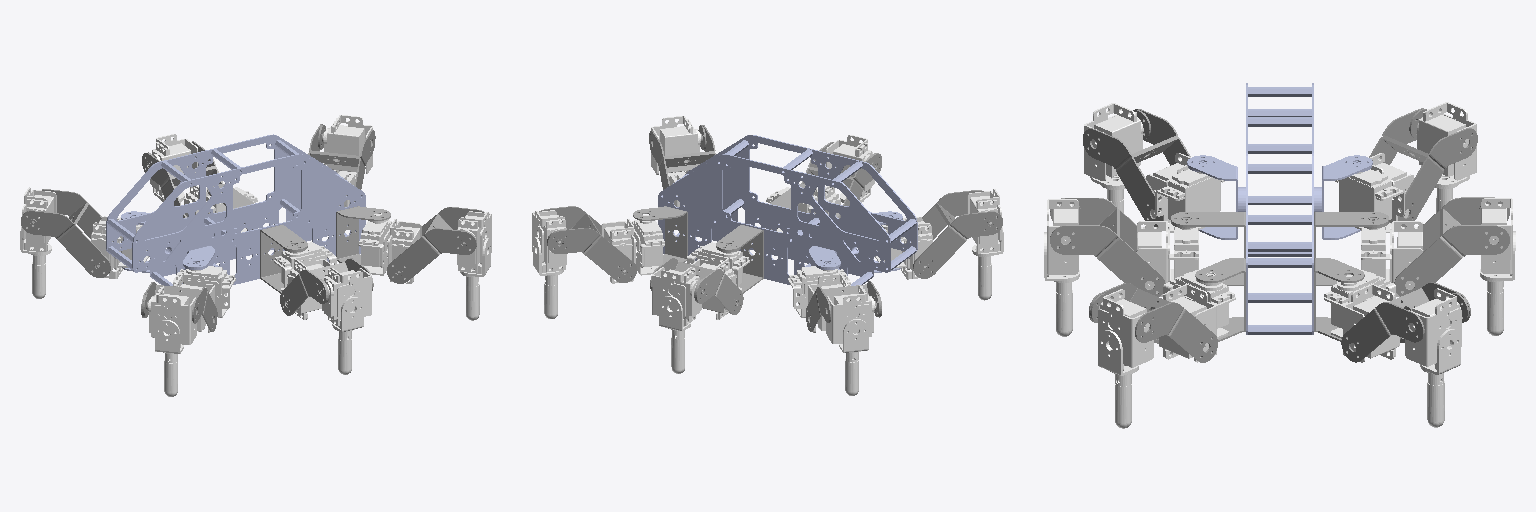
--- Facts derived from the render (not from the file) ---
The picture shows the robot from 3 angles, left to right: view 1: azimuth 30°, elevation 25°; view 2: azimuth 150°, elevation 25°; view 3: azimuth 270°, elevation 25°; orthographic projection.
Robot: sample_hexapod_robot — 25 links, 24 joints (18 continuous, 6 fixed); root link base_link; default pose: every joint at zero.
Visible links, largest first — view 1: base_link, BottomLeftLink3, MiddleRightLink4, RightFrontLink3, BottomRightLink4, RightFrontLink2, RightFrontLink4, BottomLeftLink4, MiddleRightLink3, LeftFrontLink4, MiddleRightLink2, BottomRightLink2 (+8 smaller); view 2: base_link, BottomRightLink3, MiddleLeftLink4, LeftFrontLink3, BottomLeftLink4, LeftFrontLInk2, LeftFrontLink4, BottomRightLink4, MiddleLeftLink3, RightFrontLink4, MiddleLeftLink1, MiddleLeftLink2 (+8 smaller); view 3: base_link, MiddleLeftLink3, MiddleRightLink3, LeftFrontLink4, RightFrontLink4, BottomLeftLink3, BottomRightLink3, RightFrontLink3, LeftFrontLink3, BottomLeftLink2, BottomRightLink2, RightFrontLink2 (+13 smaller).
Link boxes in pixels (x1,y1,x2,y2): base_link: [106, 134, 365, 285]; BottomLeftLink3: [21, 189, 110, 277]; MiddleRightLink4: [322, 268, 371, 374]; RightFrontLink3: [387, 207, 484, 283]; BottomRightLink4: [148, 286, 196, 396]; RightFrontLink2: [358, 213, 421, 283]; RightFrontLink4: [457, 211, 491, 320]; BottomLeftLink4: [20, 187, 56, 298]; MiddleRightLink3: [280, 258, 373, 315]; LeftFrontLink4: [323, 115, 372, 181]; MiddleRightLink2: [274, 242, 336, 319]; BottomRightLink2: [173, 266, 235, 332]; base_link: [658, 135, 917, 285]; BottomRightLink3: [913, 190, 1002, 278]; MiddleLeftLink4: [652, 267, 702, 373]; LeftFrontLink3: [539, 206, 636, 282]; BottomLeftLink4: [826, 285, 875, 395]; LeftFrontLInk2: [601, 215, 664, 283]; LeftFrontLink4: [532, 210, 566, 318]; BottomRightLink4: [967, 189, 1003, 300]; MiddleLeftLink3: [650, 258, 743, 314]; RightFrontLink4: [651, 116, 700, 180]; MiddleLeftLink1: [716, 225, 763, 293]; MiddleLeftLink2: [687, 242, 749, 319]; base_link: [1246, 83, 1313, 334]; MiddleLeftLink3: [1394, 197, 1509, 296]; MiddleRightLink3: [1050, 198, 1165, 296]; LeftFrontLink4: [1405, 288, 1461, 427]; RightFrontLink4: [1098, 289, 1153, 428]; BottomLeftLink3: [1369, 108, 1477, 226]; BottomRightLink3: [1083, 109, 1190, 226]; RightFrontLink3: [1089, 283, 1217, 362]; LeftFrontLink3: [1341, 282, 1470, 362]; BottomLeftLink2: [1335, 153, 1413, 229]; BottomRightLink2: [1146, 153, 1224, 229]; RightFrontLink2: [1158, 270, 1235, 362].
Bounding box of the posed robot: 0.3908 × 0.3641 × 0.1696 m (x, y, z).
25 mesh visuals loaded from 25 distinct referenced files (25 binary STL).

The robot description file, URDF, robot "sample_hexapod_robot":
<?xml version="1.0" encoding="utf-8"?>
<!-- This URDF was automatically created by SolidWorks to URDF Exporter! Originally created by Stephen Brawner ([email redacted])
     Commit Version: 1.5.1-0-g916b5db  Build Version: 1.5.7152.31018
     For more information, please see http://wiki.ros.org/sw_urdf_exporter -->
<robot
  name="sample_hexapod_robot">
  <link
    name="base_link">
    <inertial>
      <origin
        xyz="-0.0201724295551156 -0.0157441046135445 -0.00674889408254364"
        rpy="0 0 0" />
      <mass
        value="0" />
      <inertia
        ixx="0"
        ixy="0"
        ixz="0"
        iyy="0"
        iyz="0"
        izz="0" />
      <!-- <mass
        value="0.0716155283270815" />
      <inertia
        ixx="6.13329692510778E-05"
        ixy="1.59034863834077E-05"
        ixz="1.20390377320831E-22"
        iyy="0.00027215207463891"
        iyz="1.62249266634428E-22"
        izz="0.00032629128217773" /> -->
    </inertial>
    <visual>
      <origin
        xyz="0 0 0"
        rpy="0 0 0" />
      <geometry>
        <mesh
          filename="package://sample_hexapod_robot/meshes/base_link.STL" />
      </geometry>
      <material
        name="">
        <color
          rgba="0.792156862745098 0.819607843137255 0.933333333333333 1" />
      </material>
    </visual>
    <collision>
      <origin
        xyz="0 0 0"
        rpy="0 0 0" />
      <geometry>
        <mesh
          filename="package://sample_hexapod_robot/meshes/base_link.STL" />
      </geometry>
    </collision>
  </link>
  <link
    name="RightFrontLink1">
    <inertial>
      <origin
        xyz="-2.77555756156289E-17 0.0117444424090268 -0.00583560923500802"
        rpy="0 0 0" />
      <mass
        value="0.00481299409312765" />
      <inertia
        ixx="1.18177478674688E-06"
        ixy="-1.42650712427758E-21"
        ixz="-2.59695162761179E-24"
        iyy="2.88509010884338E-06"
        iyz="3.65304851631169E-07"
        izz="2.98596434344079E-06" />
    </inertial>
    <visual>
      <origin
        xyz="0 0 0"
        rpy="0 0 0" />
      <geometry>
        <mesh
          filename="package://sample_hexapod_robot/meshes/RightFrontLink1.STL" />
      </geometry>
      <material
        name="">
        <color
          rgba="0.752941176470588 0.752941176470588 0.752941176470588 1" />
      </material>
    </visual>
    <collision>
      <origin
        xyz="0 0 0"
        rpy="0 0 0" />
      <geometry>
        <mesh
          filename="package://sample_hexapod_robot/meshes/RightFrontLink1.STL" />
      </geometry>
    </collision>
  </link>
  <joint
    name="RightFrontJoint1"
    type="fixed">
    <origin
      xyz="0.0797966933644301 -0.0194131059174563 -0.0399893477490188"
      rpy="3.14159265358979 1.5707963267949 0" />
    <parent
      link="base_link" />
    <child
      link="RightFrontLink1" />
    <axis
      xyz="0 0 0" />
  </joint>
  <link
    name="RightFrontLink2">
    <inertial>
      <origin
        xyz="0.00452867992289666 0.0139710440348122 -0.00560326484439639"
        rpy="0 0 0" />
      <mass
        value="0.0532163858371582" />
      <inertia
        ixx="8.59655539356453E-06"
        ixy="1.38445250775542E-07"
        ixz="3.37486665413632E-08"
        iyy="1.32545838824263E-05"
        iyz="-1.38471551019802E-07"
        izz="8.62839306366304E-06" />
    </inertial>
    <visual>
      <origin
        xyz="0 0 0"
        rpy="0 0 0" />
      <geometry>
        <mesh
          filename="package://sample_hexapod_robot/meshes/RightFrontLink2.STL" />
      </geometry>
      <material
        name="">
        <color
          rgba="1 1 1 1" />
      </material>
    </visual>
    <collision>
      <origin
        xyz="0 0 0"
        rpy="0 0 0" />
      <geometry>
        <mesh
          filename="package://sample_hexapod_robot/meshes/RightFrontLink2.STL" />
      </geometry>
    </collision>
  </link>
  <joint
    name="RightFrontJoint2"
    type="continuous">
    <origin
      xyz="0 0.0270001999999999 -0.0186562999999996"
      rpy="-1.5707963267949 -0.786246680506596 1.5707963267949" />
    <parent
      link="RightFrontLink1" />
    <child
      link="RightFrontLink2" />
    <axis
      xyz="0 0 1" />
  </joint>
  <link
    name="RightFrontLink3">
    <inertial>
      <origin
        xyz="0.0404128398424304 0.00597660677483936 0.00369375749998602"
        rpy="0 0 0" />
      <mass
        value="0.0123870986027426" />
      <inertia
        ixx="6.14529175645602E-06"
        ixy="1.23648254560111E-13"
        ixz="-3.65304851631165E-07"
        iyy="3.44355530037888E-06"
        iyz="-1.23648258901154E-13"
        izz="7.79938480929225E-06" />
    </inertial>
    <visual>
      <origin
        xyz="0 0 0"
        rpy="0 0 0" />
      <geometry>
        <mesh
          filename="package://sample_hexapod_robot/meshes/RightFrontLink3.STL" />
      </geometry>
      <material
        name="">
        <color
          rgba="0.698039215686274 0.698039215686274 0.698039215686274 1" />
      </material>
    </visual>
    <collision>
      <origin
        xyz="0 0 0"
        rpy="0 0 0" />
      <geometry>
        <mesh
          filename="package://sample_hexapod_robot/meshes/RightFrontLink3.STL" />
      </geometry>
    </collision>
  </link>
  <joint
    name="RightFrontJoint3"
    type="continuous">
    <origin
      xyz="0 0.0284480000000001 -0.019127099952002"
      rpy="3.14159265358979 -0.785398163397442 1.5707963267949" />
    <parent
      link="RightFrontLink2" />
    <child
      link="RightFrontLink3" />
    <axis
      xyz="0 1 0" />
  </joint>
  <link
    name="RightFrontLink4">
    <inertial>
      <origin
        xyz="0.017502224050596 0.00213695685860105 4.7020139145551E-05"
        rpy="0 0 0" />
      <mass
        value="0.0328903409487069" />
      <inertia
        ixx="3.98709519783942E-06"
        ixy="1.2256306723942E-07"
        ixz="1.68744277076862E-08"
        iyy="7.43377213845983E-06"
        iyz="-1.38372953220074E-07"
        izz="5.85869865539314E-06" />
    </inertial>
    <visual>
      <origin
        xyz="0 0 0"
        rpy="0 0 0" />
      <geometry>
        <mesh
          filename="package://sample_hexapod_robot/meshes/RightFrontLink4.STL" />
      </geometry>
      <material
        name="">
        <color
          rgba="1 1 1 1" />
      </material>
    </visual>
    <collision>
      <origin
        xyz="0 0 0"
        rpy="0 0 0" />
      <geometry>
        <mesh
          filename="package://sample_hexapod_robot/meshes/RightFrontLink4.STL" />
      </geometry>
    </collision>
  </link>
  <joint
    name="RightFrontJoint4"
    type="continuous">
    <origin
      xyz="0.0730630999999997 0 0.0186563000000001"
      rpy="1.5707963267949 -0.785398163397455 3.14159265358979" />
    <parent
      link="RightFrontLink3" />
    <child
      link="RightFrontLink4" />
    <axis
      xyz="0 0 1" />
  </joint>
  <link
    name="LeftFrontLink1">
    <inertial>
      <origin
        xyz="-6.93889390390723E-18 0.0117444424090268 -0.00583560923500803"
        rpy="0 0 0" />
      <mass
        value="0.00481299409312765" />
      <inertia
        ixx="1.18177478674687E-06"
        ixy="3.83641268413852E-22"
        ixz="7.43348252236493E-22"
        iyy="2.88509010884338E-06"
        iyz="3.65304851631169E-07"
        izz="2.98596434344079E-06" />
    </inertial>
    <visual>
      <origin
        xyz="0 0 0"
        rpy="0 0 0" />
      <geometry>
        <mesh
          filename="package://sample_hexapod_robot/meshes/LeftFrontLink1.STL" />
      </geometry>
      <material
        name="">
        <color
          rgba="0.752941176470588 0.752941176470588 0.752941176470588 1" />
      </material>
    </visual>
    <collision>
      <origin
        xyz="0 0 0"
        rpy="0 0 0" />
      <geometry>
        <mesh
          filename="package://sample_hexapod_robot/meshes/LeftFrontLink1.STL" />
      </geometry>
    </collision>
  </link>
  <joint
    name="LeftFrontJoint1"
    type="fixed">
    <origin
      xyz="0.0797966933644301 0.0329108940825437 -0.0399893477490188"
      rpy="0 -1.5707963267949 0" />
    <parent
      link="base_link" />
    <child
      link="LeftFrontLink1" />
    <axis
      xyz="0 0 0" />
  </joint>
  <link
    name="LeftFrontLInk2">
    <inertial>
      <origin
        xyz="0.0042927116829299 -0.0142494000000003 -0.00590628826906783"
        rpy="0 0 0" />
      <mass
        value="0.0522696869799878" />
      <inertia
        ixx="8.56368160000811E-06"
        ixy="-1.38274058125036E-07"
        ixz="3.5847434372441E-08"
        iyy="1.32217101778383E-05"
        iyz="1.38274058125032E-07"
        izz="8.56368160000811E-06" />
    </inertial>
    <visual>
      <origin
        xyz="0 0 0"
        rpy="0 0 0" />
      <geometry>
        <mesh
          filename="package://sample_hexapod_robot/meshes/LeftFrontLInk2.STL" />
      </geometry>
      <material
        name="">
        <color
          rgba="1 1 1 1" />
      </material>
    </visual>
    <collision>
      <origin
        xyz="0 0 0"
        rpy="0 0 0" />
      <geometry>
        <mesh
          filename="package://sample_hexapod_robot/meshes/LeftFrontLInk2.STL" />
      </geometry>
    </collision>
  </link>
  <joint
    name="LeftFrontJoint2"
    type="continuous">
    <origin
      xyz="0 0.0269911968874116 -0.0186293668612354"
      rpy="1.5707963267949 -0.786246680508058 1.5707963267949" />
    <parent
      link="LeftFrontLink1" />
    <child
      link="LeftFrontLInk2" />
    <axis
      xyz="0 0 1" />
  </joint>
  <link
    name="LeftFrontLink3">
    <inertial>
      <origin
        xyz="-0.00369426510069479 0.00543050677483787 -0.0404133474431356"
        rpy="0 0 0" />
      <mass
        value="0.0123870986027426" />
      <inertia
        ixx="7.79943723513966E-06"
        ixy="2.47296509967254E-13"
        ixz="-3.65304851631169E-07"
        iyy="3.44355530037888E-06"
        iyz="-1.6940658945086E-21"
        izz="6.14523933060859E-06" />
    </inertial>
    <visual>
      <origin
        xyz="0 0 0"
        rpy="0 0 0" />
      <geometry>
        <mesh
          filename="package://sample_hexapod_robot/meshes/LeftFrontLink3.STL" />
      </geometry>
      <material
        name="">
        <color
          rgba="0.698039215686274 0.698039215686274 0.698039215686274 1" />
      </material>
    </visual>
    <collision>
      <origin
        xyz="0 0 0"
        rpy="0 0 0" />
      <geometry>
        <mesh
          filename="package://sample_hexapod_robot/meshes/LeftFrontLink3.STL" />
      </geometry>
    </collision>
  </link>
  <joint
    name="LeftFrontJoint3"
    type="continuous">
    <origin
      xyz="0 -0.0284734 -0.0185936999519958"
      rpy="3.14159265358979 -0.785398163397443 1.5707963267949" />
    <parent
      link="LeftFrontLInk2" />
    <child
      link="LeftFrontLink3" />
    <axis
      xyz="0 1 0" />
  </joint>
  <link
    name="LeftFrontLink4">
    <inertial>
      <origin
        xyz="0.0173312004836655 -0.00213695685902054 -0.00049907986087272"
        rpy="0 0 0" />
      <mass
        value="0.0328903409487069" />
      <inertia
        ixx="3.9870951978397E-06"
        ixy="-1.22365823567027E-07"
        ixz="1.79235818286107E-08"
        iyy="7.4337721384596E-06"
        iyz="1.38372942876725E-07"
        izz="5.85869865539311E-06" />
    </inertial>
    <visual>
      <origin
        xyz="0 0 0"
        rpy="0 0 0" />
      <geometry>
        <mesh
          filename="package://sample_hexapod_robot/meshes/LeftFrontLink4.STL" />
      </geometry>
      <material
        name="">
        <color
          rgba="1 1 1 1" />
      </material>
    </visual>
    <collision>
      <origin
        xyz="0 0 0"
        rpy="0 0 0" />
      <geometry>
        <mesh
          filename="package://sample_hexapod_robot/meshes/LeftFrontLink4.STL" />
      </geometry>
    </collision>
  </link>
  <joint
    name="LeftFrontJoint4"
    type="continuous">
    <origin
      xyz="-0.0186563000000022 0 -0.073063099999997"
      rpy="1.5707963267959 -0.785398163398452 3.14159265358838" />
    <parent
      link="LeftFrontLink3" />
    <child
      link="LeftFrontLink4" />
    <axis
      xyz="0 0 1" />
  </joint>
  <link
    name="MiddleRightLink1">
    <inertial>
      <origin
        xyz="-0.00338972796446857 0.0229454122748954 9.48742289353863E-07"
        rpy="0 0 0" />
      <mass
        value="0.00662740565244451" />
      <inertia
        ixx="2.19706904997707E-06"
        ixy="2.1649945772828E-21"
        ixz="1.23648259153443E-13"
        iyy="3.22730168561668E-06"
        iyz="4.67113118283495E-22"
        izz="4.78057292970292E-06" />
    </inertial>
    <visual>
      <origin
        xyz="0 0 0"
        rpy="0 0 0" />
      <geometry>
        <mesh
          filename="package://sample_hexapod_robot/meshes/MiddleRightLink1.STL" />
      </geometry>
      <material
        name="">
        <color
          rgba="0.752941176470588 0.752941176470588 0.752941176470588 1" />
      </material>
    </visual>
    <collision>
      <origin
        xyz="0 0 0"
        rpy="0 0 0" />
      <geometry>
        <mesh
          filename="package://sample_hexapod_robot/meshes/MiddleRightLink1.STL" />
      </geometry>
    </collision>
  </link>
  <joint
    name="MiddleRightJoint1"
    type="fixed">
    <origin
      xyz="-0.0045313 -0.019413 -0.039989"
      rpy="3.1416 1.5708 0" />
    <parent
      link="base_link" />
    <child
      link="MiddleRightLink1" />
    <axis
      xyz="0 0 0" />
  </joint>
  <link
    name="MiddleRightLink2">
    <inertial>
      <origin
        xyz="0.00600434318283062 -0.0142239999999997 -0.00612161228746982"
        rpy="0 0 0" />
      <mass
        value="0.0522696869799877" />
      <inertia
        ixx="8.5636816000081E-06"
        ixy="1.384714636615E-07"
        ixz="1.04942766887823E-09"
        iyy="1.32217101778383E-05"
        iyz="1.38471463661503E-07"
        izz="8.5636816000081E-06" />
    </inertial>
    <visual>
      <origin
        xyz="0 0 0"
        rpy="0 0 0" />
      <geometry>
        <mesh
          filename="package://sample_hexapod_robot/meshes/MiddleRightLink2.STL" />
      </geometry>
      <material
        name="">
        <color
          rgba="1 1 1 1" />
      </material>
    </visual>
    <collision>
      <origin
        xyz="0 0 0"
        rpy="0 0 0" />
      <geometry>
        <mesh
          filename="package://sample_hexapod_robot/meshes/MiddleRightLink2.STL" />
      </geometry>
    </collision>
  </link>
  <joint
    name="MiddleRightJoint2"
    type="continuous">
    <origin
      xyz="0 0.046063 0"
      rpy="3.1416 1.5708 0" />
    <parent
      link="MiddleRightLink1" />
    <child
      link="MiddleRightLink2" />
    <axis
      xyz="0 0 1" />
  </joint>
  <link
    name="MiddleRightLink3">
    <inertial>
      <origin
        xyz="0.00369060677483836 -0.0404128398424318 0.00369375749998502"
        rpy="0 0 0" />
      <mass
        value="0.0123870986027426" />
      <inertia
        ixx="3.44355530037886E-06"
        ixy="-1.23648257198683E-13"
        ixz="-1.2364825584536E-13"
        iyy="6.145291756456E-06"
        iyz="3.65304851631167E-07"
        izz="7.79938480929222E-06" />
    </inertial>
    <visual>
      <origin
        xyz="0 0 0"
        rpy="0 0 0" />
      <geometry>
        <mesh
          filename="package://sample_hexapod_robot/meshes/MiddleRightLink3.STL" />
      </geometry>
      <material
        name="">
        <color
          rgba="0.752941176470588 0.752941176470588 0.752941176470588 1" />
      </material>
    </visual>
    <collision>
      <origin
        xyz="0 0 0"
        rpy="0 0 0" />
      <geometry>
        <mesh
          filename="package://sample_hexapod_robot/meshes/MiddleRightLink3.STL" />
      </geometry>
    </collision>
  </link>
  <joint
    name="MiddleRightJoint3"
    type="continuous">
    <origin
      xyz="0 -0.028448 -0.019114"
      rpy="-2.3562 0 -3.1416" />
    <parent
      link="MiddleRightLink2" />
    <child
      link="MiddleRightLink3" />
    <axis
      xyz="1 0 0" />
  </joint>
  <link
    name="MiddleRightLink4">
    <inertial>
      <origin
        xyz="0.0175022240505962 0.00213695685903806 -0.0022389798194285"
        rpy="0 0 0" />
      <mass
        value="0.0328903409487069" />
      <inertia
        ixx="3.98709519783942E-06"
        ixy="1.22563067417214E-07"
        ixz="1.68744248766835E-08"
        iyy="7.43377213845984E-06"
        iyz="-1.38372953220075E-07"
        izz="5.85869865539314E-06" />
    </inertial>
    <visual>
      <origin
        xyz="0 0 0"
        rpy="0 0 0" />
      <geometry>
        <mesh
          filename="package://sample_hexapod_robot/meshes/MiddleRightLink4.STL" />
      </geometry>
      <material
        name="">
        <color
          rgba="1 1 1 1" />
      </material>
    </visual>
    <collision>
      <origin
        xyz="0 0 0"
        rpy="0 0 0" />
      <geometry>
        <mesh
          filename="package://sample_hexapod_robot/meshes/MiddleRightLink4.STL" />
      </geometry>
    </collision>
  </link>
  <joint
    name="MiddleRightJoint4"
    type="continuous">
    <origin
      xyz="0 -0.073063 0.018656"
      rpy="1.5708 -0.7854 1.5708" />
    <parent
      link="MiddleRightLink3" />
    <child
      link="MiddleRightLink4" />
    <axis
      xyz="0 0 1" />
  </joint>
  <link
    name="MiddleLeftLink1">
    <inertial>
      <origin
        xyz="-0.00338972796446862 0.0229454122748954 -9.48742289343454E-07"
        rpy="0 0 0" />
      <mass
        value="0.0066274056524445" />
      <inertia
        ixx="2.19706904997706E-06"
        ixy="7.3352551952893E-22"
        ixz="-1.23648257245624E-13"
        iyy="3.22730168561668E-06"
        iyz="-1.38649015147347E-21"
        izz="4.78057292970291E-06" />
    </inertial>
    <visual>
      <origin
        xyz="0 0 0"
        rpy="0 0 0" />
      <geometry>
        <mesh
          filename="package://sample_hexapod_robot/meshes/MiddleLeftLink1.STL" />
      </geometry>
      <material
        name="">
        <color
          rgba="0.752941176470588 0.752941176470588 0.752941176470588 1" />
      </material>
    </visual>
    <collision>
      <origin
        xyz="0 0 0"
        rpy="0 0 0" />
      <geometry>
        <mesh
          filename="package://sample_hexapod_robot/meshes/MiddleLeftLink1.STL" />
      </geometry>
    </collision>
  </link>
  <joint
    name="MiddleLeftJoint1"
    type="fixed">
    <origin
      xyz="-0.0045313 0.032911 -0.039989"
      rpy="0 1.5708 0" />
    <parent
      link="base_link" />
    <child
      link="MiddleLeftLink1" />
    <axis
      xyz="0 0 0" />
  </joint>
  <link
    name="MiddleLeftLink2">
    <inertial>
      <origin
        xyz="0.00630971916442873 0.0142240000000001 -0.00589358826906994"
        rpy="0 0 0" />
      <mass
        value="0.0522696869799877" />
      <inertia
        ixx="8.5636816000081E-06"
        ixy="-1.38274058125033E-07"
        ixz="-1.0494276688793E-09"
        iyy="1.32217101778383E-05"
        iyz="-1.38274058125026E-07"
        izz="8.5636816000081E-06" />
    </inertial>
    <visual>
      <origin
        xyz="0 0 0"
        rpy="0 0 0" />
      <geometry>
        <mesh
          filename="package://sample_hexapod_robot/meshes/MiddleLeftLink2.STL" />
      </geometry>
      <material
        name="">
        <color
          rgba="1 1 1 1" />
      </material>
    </visual>
    <collision>
      <origin
        xyz="0 0 0"
        rpy="0 0 0" />
      <geometry>
        <mesh
          filename="package://sample_hexapod_robot/meshes/MiddleLeftLink2.STL" />
      </geometry>
    </collision>
  </link>
  <joint
    name="MiddleLeftJoint2"
    type="continuous">
    <origin
      xyz="0 0.046063 0"
      rpy="3.1416 -1.5708 3.14" />
    <parent
      link="MiddleLeftLink1" />
    <child
      link="MiddleLeftLink2" />
    <axis
      xyz="0 0 1" />
  </joint>
  <link
    name="MiddleLeftLink3">
    <inertial>
      <origin
        xyz="0.00315720677483883 -0.0404138550438462 -0.00369375749998499"
        rpy="0 0 0" />
      <mass
        value="0.0123870986027426" />
      <inertia
        ixx="3.44355530037888E-06"
        ixy="1.2364826165101E-13"
        ixz="1.23648262871156E-13"
        iyy="6.14529175645598E-06"
        iyz="-3.65304851631168E-07"
        izz="7.79938480929223E-06" />
    </inertial>
    <visual>
      <origin
        xyz="0 0 0"
        rpy="0 0 0" />
      <geometry>
        <mesh
          filename="package://sample_hexapod_robot/meshes/MiddleLeftLink3.STL" />
      </geometry>
      <material
        name="">
        <color
          rgba="0.752941176470588 0.752941176470588 0.752941176470588 1" />
      </material>
    </visual>
    <collision>
      <origin
        xyz="0 0 0"
        rpy="0 0 0" />
      <geometry>
        <mesh
          filename="package://sample_hexapod_robot/meshes/MiddleLeftLink3.STL" />
      </geometry>
    </collision>
  </link>
  <joint
    name="MiddleLeftJoint3"
    type="continuous">
    <origin
      xyz="0 0.028448 -0.018581"
      rpy="-0.7854 0 -3.1416" />
    <parent
      link="MiddleLeftLink2" />
    <child
      link="MiddleLeftLink3" />
    <axis
      xyz="1 0 0" />
  </joint>
  <link
    name="MiddleLeftLink4">
    <inertial>
      <origin
        xyz="0.0173312004836624 -0.002136956859038 -0.00277237986085704"
        rpy="0 0 0" />
      <mass
        value="0.0328903409487069" />
      <inertia
        ixx="3.98709519783942E-06"
        ixy="-1.22365823563716E-07"
        ixz="1.79235818268787E-08"
        iyy="7.43377213845985E-06"
        iyz="1.38372942876585E-07"
        izz="5.85869865539315E-06" />
    </inertial>
    <visual>
      <origin
        xyz="0 0 0"
        rpy="0 0 0" />
      <geometry>
        <mesh
          filename="package://sample_hexapod_robot/meshes/MiddleLeftLink4.STL" />
      </geometry>
      <material
        name="">
        <color
          rgba="1 1 1 1" />
      </material>
    </visual>
    <collision>
      <origin
        xyz="0 0 0"
        rpy="0 0 0" />
      <geometry>
        <mesh
          filename="package://sample_hexapod_robot/meshes/MiddleLeftLink4.STL" />
      </geometry>
    </collision>
  </link>
  <joint
    name="MiddleLeftJoint4"
    type="continuous">
    <origin
      xyz="0 -0.073063 -0.018656"
      rpy="1.5708 0.7854 1.5708" />
    <parent
      link="MiddleLeftLink3" />
    <child
      link="MiddleLeftLink4" />
    <axis
      xyz="0 0 1" />
  </joint>
  <link
    name="BottomRightLink1">
    <inertial>
      <origin
        xyz="-0.00544490603885191 -0.0151146056014377 0.00266986656589765"
        rpy="0 0 0" />
      <mass
        value="0.00840681165634204" />
      <inertia
        ixx="3.14658069674164E-06"
        ixy="-3.65304846028535E-07"
        ixz="3.10536586089031E-10"
        iyy="3.15571586439312E-06"
        iyz="-6.39792134758118E-11"
        izz="1.37420266058929E-06" />
    </inertial>
    <visual>
      <origin
        xyz="0 0 0"
        rpy="0 0 0" />
      <geometry>
        <mesh
          filename="package://sample_hexapod_robot/meshes/BottomRightLink1.STL" />
      </geometry>
      <material
        name="">
        <color
          rgba="0.792156862745098 0.819607843137255 0.933333333333333 1" />
      </material>
    </visual>
    <collision>
      <origin
        xyz="0 0 0"
        rpy="0 0 0" />
      <geometry>
        <mesh
          filename="package://sample_hexapod_robot/meshes/BottomRightLink1.STL" />
      </geometry>
    </collision>
  </link>
  <joint
    name="BottomRightJoint1"
    type="fixed">
    <origin
      xyz="-0.088859 -0.019413 -0.039989"
      rpy="0 0.00017514 0" />
    <parent
      link="base_link" />
    <child
      link="BottomRightLink1" />
    <axis
      xyz="0 1 0" />
  </joint>
  <link
    name="BottomRightLink2">
    <inertial>
      <origin
        xyz="0.00600434318283 -0.014224 -0.00613431228747037"
        rpy="0 0 0" />
      <mass
        value="0.0522696869799878" />
      <inertia
        ixx="8.56368160000811E-06"
        ixy="1.38471463661502E-07"
        ixz="1.04942766887751E-09"
        iyy="1.32217101778383E-05"
        iyz="1.38471463661504E-07"
        izz="8.5636816000081E-06" />
    </inertial>
    <visual>
      <origin
        xyz="0 0 0"
        rpy="0 0 0" />
      <geometry>
        <mesh
          filename="package://sample_hexapod_robot/meshes/BottomRightLink2.STL" />
      </geometry>
      <material
        name="">
        <color
          rgba="1 1 1 1" />
      </material>
    </visual>
    <collision>
      <origin
        xyz="0 0 0"
        rpy="0 0 0" />
      <geometry>
        <mesh
          filename="package://sample_hexapod_robot/meshes/BottomRightLink2.STL" />
      </geometry>
    </collision>
  </link>
  <joint
    name="BottomRightJoint2"
    type="continuous">
    <origin
      xyz="-0.018656 -0.03335 0"
      rpy="0.00012374 -0.00012395 -0.78455" />
    <parent
      link="BottomRightLink1" />
    <child
      link="BottomRightLink2" />
    <axis
      xyz="0 0 1" />
  </joint>
  <link
    name="BottomRightLink3">
    <inertial>
      <origin
        xyz="-0.0404138550438458 0.00369060677483947 -0.00369375749998468"
        rpy="0 0 0" />
      <mass
        value="0.0123870986027426" />
      <inertia
        ixx="6.14529175645597E-06"
        ixy="1.23648256148297E-13"
        ixz="-3.6530485163117E-07"
        iyy="3.44355530037887E-06"
        iyz="1.23648254560111E-13"
        izz="7.79938480929219E-06" />
    </inertial>
    <visual>
      <origin
        xyz="0 0 0"
        rpy="0 0 0" />
      <geometry>
        <mesh
          filename="package://sample_hexapod_robot/meshes/BottomRightLink3.STL" />
      </geometry>
      <material
        name="">
        <color
          rgba="0.698039215686274 0.698039215686274 0.698039215686274 1" />
      </material>
    </visual>
    <collision>
      <origin
        xyz="0 0 0"
        rpy="0 0 0" />
      <geometry>
        <mesh
          filename="package://sample_hexapod_robot/meshes/BottomRightLink3.STL" />
      </geometry>
    </collision>
  </link>
  <joint
    name="BottomRightJoint3"
    type="continuous">
    <origin
      xyz="0 -0.028448 -0.019127099952"
      rpy="0 0.785398163397454 1.5707963267949" />
    <parent
      link="BottomRightLink2" />
    <child
      link="BottomRightLink3" />
    <axis
      xyz="0 1 0" />
  </joint>
  <link
    name="BottomRightLink4">
    <inertial>
      <origin
        xyz="0.017502222237589 0.00213695685903822 -0.00223898052686797"
        rpy="0 0 0" />
      <mass
        value="0.0328903409487069" />
      <inertia
        ixx="3.98709519783942E-06"
        ixy="1.22563229100187E-07"
        ixz="1.68744248766831E-08"
        iyy="7.43377213845984E-06"
        iyz="-1.38372578909951E-07"
        izz="5.85869865539314E-06" />
    </inertial>
    <visual>
      <origin
        xyz="0 0 0"
        rpy="0 0 0" />
      <geometry>
        <mesh
          filename="package://sample_hexapod_robot/meshes/BottomRightLink4.STL" />
      </geometry>
      <material
        name="">
        <color
          rgba="1 1 1 1" />
      </material>
    </visual>
    <collision>
      <origin
        xyz="0 0 0"
        rpy="0 0 0" />
      <geometry>
        <mesh
          filename="package://sample_hexapod_robot/meshes/BottomRightLink4.STL" />
      </geometry>
    </collision>
  </link>
  <joint
    name="BottomRightJoint4"
    type="continuous">
    <origin
      xyz="-0.0730630999999976 0 -0.0186562999999977"
      rpy="-1.5707963267949 0.785398163397442 0" />
    <parent
      link="BottomRightLink3" />
    <child
      link="BottomRightLink4" />
    <axis
      xyz="0 0 1" />
  </joint>
  <link
    name="BottomLeftLink1">
    <inertial>
      <origin
        xyz="-0.0054444383569754 -0.0151146056014377 -0.0026708198202042"
        rpy="0 0 0" />
      <mass
        value="0.00840681165634204" />
      <inertia
        ixx="3.14658075115044E-06"
        ixy="-3.6530485163117E-07"
        ixz="-1.23648257868793E-13"
        iyy="3.15571586439312E-06"
        iyz="1.96266958333954E-21"
        izz="1.37420260618049E-06" />
    </inertial>
    <visual>
      <origin
        xyz="0 0 0"
        rpy="0 0 0" />
      <geometry>
        <mesh
          filename="package://sample_hexapod_robot/meshes/BottomLeftLink1.STL" />
      </geometry>
      <material
        name="">
        <color
          rgba="0.792156862745098 0.819607843137255 0.933333333333333 1" />
      </material>
    </visual>
    <collision>
      <origin
        xyz="0 0 0"
        rpy="0 0 0" />
      <geometry>
        <mesh
          filename="package://sample_hexapod_robot/meshes/BottomLeftLink1.STL" />
      </geometry>
    </collision>
  </link>
  <joint
    name="BottomLeftJoint1"
    type="fixed">
    <origin
      xyz="-0.088859 0.032911 -0.039989"
      rpy="3.1416 0 0" />
    <parent
      link="base_link" />
    <child
      link="BottomLeftLink1" />
    <axis
      xyz="0 1 0" />
  </joint>
  <link
    name="BottomLeftLink2">
    <inertial>
      <origin
        xyz="0.0213846191644279 0.0191261999999996 -0.00590628826906894"
        rpy="0 0 0" />
      <mass
        value="0.0522696869799878" />
      <inertia
        ixx="8.5636816000081E-06"
        ixy="-1.38274058125027E-07"
        ixz="-1.04942766887137E-09"
        iyy="1.32217101778383E-05"
        iyz="-1.38274058125029E-07"
        izz="8.56368160000811E-06" />
    </inertial>
    <visual>
      <origin
        xyz="0 0 0"
        rpy="0 0 0" />
      <geometry>
        <mesh
          filename="package://sample_hexapod_robot/meshes/BottomLeftLink2.STL" />
      </geometry>
      <material
        name="">
        <color
          rgba="1 1 1 1" />
      </material>
    </visual>
    <collision>
      <origin
        xyz="0 0 0"
        rpy="0 0 0" />
      <geometry>
        <mesh
          filename="package://sample_hexapod_robot/meshes/BottomLeftLink2.STL" />
      </geometry>
    </collision>
  </link>
  <joint
    name="BottomLeftJoint2"
    type="continuous">
    <origin
      xyz="-0.0258614686662949 -0.0192303657467149 0"
      rpy="3.14159265358979 0 -0.78454964628684" />
    <parent
      link="BottomLeftLink1" />
    <child
      link="BottomLeftLink2" />
    <axis
      xyz="0 0 1" />
  </joint>
  <link
    name="BottomLeftLink3">
    <inertial>
      <origin
        xyz="-0.0404138550438461 -0.0119176932251596 0.00369375749998496"
        rpy="0 0 0" />
      <mass
        value="0.0123870986027426" />
      <inertia
        ixx="6.14529175645598E-06"
        ixy="1.23648255407144E-13"
        ixz="3.6530485163117E-07"
        iyy="3.44355530037886E-06"
        iyz="-1.23648263665715E-13"
        izz="7.79938480929221E-06" />
    </inertial>
    <visual>
      <origin
        xyz="0 0 0"
        rpy="0 0 0" />
      <geometry>
        <mesh
          filename="package://sample_hexapod_robot/meshes/BottomLeftLink3.STL" />
      </geometry>
      <material
        name="">
        <color
          rgba="0.698039215686274 0.698039215686274 0.698039215686274 1" />
      </material>
    </visual>
    <collision>
      <origin
        xyz="0 0 0"
        rpy="0 0 0" />
      <geometry>
        <mesh
          filename="package://sample_hexapod_robot/meshes/BottomLeftLink3.STL" />
      </geometry>
    </collision>
  </link>
  <joint
    name="BottomLeftJoint3"
    type="continuous">
    <origin
      xyz="0 0.0333501999999997 -0.0185936999519997"
      rpy="3.14159265358979 0.785398163397447 -1.5707963267949" />
    <parent
      link="BottomLeftLink2" />
    <child
      link="BottomLeftLink3" />
    <axis
      xyz="0 1 0" />
  </joint>
  <link
    name="BottomLeftLink4">
    <inertial>
      <origin
        xyz="0.0173312022966688 -0.00213695685860177 -0.0178472805268687"
        rpy="0 0 0" />
      <mass
        value="0.0328903409487069" />
      <inertia
        ixx="3.98709519783939E-06"
        ixy="-1.22365661702495E-07"
        ixz="1.79235789961424E-08"
        iyy="7.43377213845987E-06"
        iyz="1.38372568566472E-07"
        izz="5.85869865539314E-06" />
    </inertial>
    <visual>
      <origin
        xyz="0 0 0"
        rpy="0 0 0" />
      <geometry>
        <mesh
          filename="package://sample_hexapod_robot/meshes/BottomLeftLink4.STL" />
      </geometry>
      <material
        name="">
        <color
          rgba="1 1 1 1" />
      </material>
    </visual>
    <collision>
      <origin
        xyz="0 0 0"
        rpy="0 0 0" />
      <geometry>
        <mesh
          filename="package://sample_hexapod_robot/meshes/BottomLeftLink4.STL" />
      </geometry>
    </collision>
  </link>
  <joint
    name="BottomLeftJoint4"
    type="continuous">
    <origin
      xyz="-0.0730630999999995 0 0.0186563000000002"
      rpy="-1.57079632679503 -0.785398163397583 0" />
    <parent
      link="BottomLeftLink3" />
    <child
      link="BottomLeftLink4" />
    <axis
      xyz="0 0 1" />
  </joint>

  <transmission name="RightFrontTran2">
    <type>transmission_interface/SimpleTransmission</type>
    <joint name="RightFrontJoint2">
      <hardwareInterface>hardware_interface/EffortJointInterface</hardwareInterface>
    </joint>
    <actuator name="RightFrontMotor2">
      <hardwareInterface>hardware_interface/EffortJointInterface</hardwareInterface>
      <mechanicalReduction>1</mechanicalReduction>
    </actuator>
  </transmission>

  <transmission name="LeftFrontTran2">
    <type>transmission_interface/SimpleTransmission</type>
    <joint name="LeftFrontJoint2">
      <hardwareInterface>hardware_interface/EffortJointInterface</hardwareInterface>
    </joint>
    <actuator name="LeftFrontmotor2">
      <hardwareInterface>hardware_interface/EffortJointInterface</hardwareInterface>
      <mechanicalReduction>1</mechanicalReduction>
    </actuator>
  </transmission>

  <!-- Gazebo plugin decleration -->
  <gazebo>
    <plugin name="gazebo_ros_control" filename="libgazebo_ros_control.so">
      <robotNamespace>/</robotNamespace>
    </plugin>
  </gazebo>

</robot>
